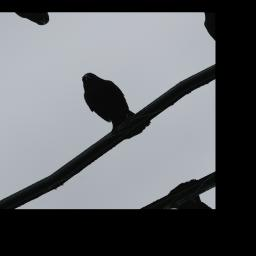Crow: (68, 63, 153, 148)
